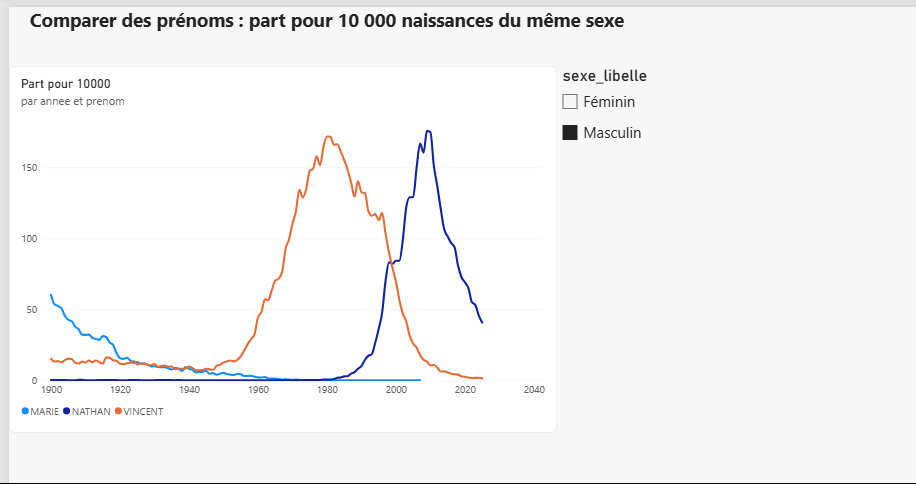

The dashboard page shown, as its layout file describes it:
{"tool":"powerbi","page":{"name":"Comparaison","canvas":[1920,1080],"ordinal":1},"visuals":[{"type":"lineChart","fields":{"Category":["dim_annee.annee"],"Series":["faits_prenoms.prenom"],"Y":["faits_prenoms.Part pour 10000"]},"box":[0,84.3,782.9,524.3],"z":0},{"type":"slicer","fields":{"Values":["dim_sexe.sexe_libelle"]},"box":[782.9,84.3,210,142.9],"z":1000},{"type":"textbox","box":[0,0,908.6,84.3],"z":1001}]}

Visuals, with their boxes on the page's 1920x1080 design canvas (x1, y1, x2, y2). These are canvas units, not pixel positions in the 916x484 screenshot, which may show the page scaled, cropped or inside an application window:
lineChart - dim_annee.annee x faits_prenoms.prenom: pyautogui.locateOnScreen(0, 84, 783, 609)
slicer - dim_sexe.sexe_libelle: pyautogui.locateOnScreen(783, 84, 993, 227)
textbox: pyautogui.locateOnScreen(0, 0, 909, 84)
